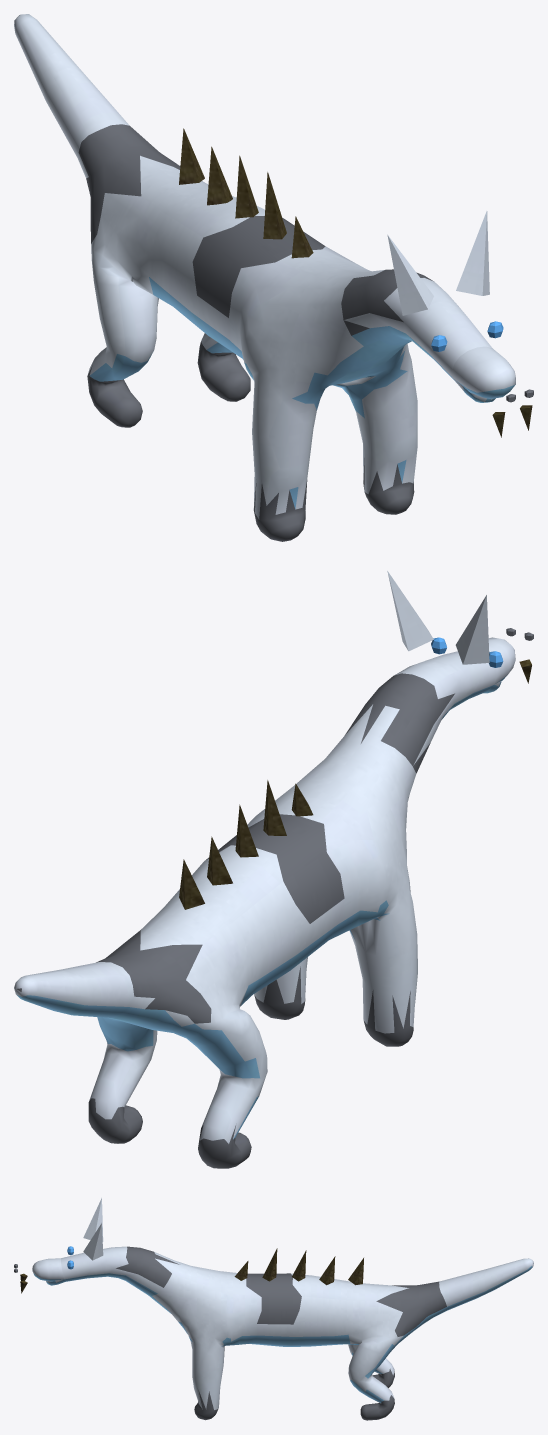
Rendered from mon_sp_ice_fox.glb.
3 views of the same model, one above another, from view 1: azimuth 30°, elevation 25°; view 2: azimuth 150°, elevation 25°; view 3: azimuth 270°, elevation 25° (orthographic). The views are drawn at different scales.
Visible parts, largest first — view 1: mon_sp_ice_fox; view 2: mon_sp_ice_fox; view 3: mon_sp_ice_fox.
Boxes of the visible parts, <box> form: mon_sp_ice_fox: <box>14,14,533,541</box>; mon_sp_ice_fox: <box>14,571,533,1168</box>; mon_sp_ice_fox: <box>14,1198,533,1420</box>.
Bounding box in the file's own units: 0.3245 × 0.7447 × 1.79.
5 materials, 5 textured.
